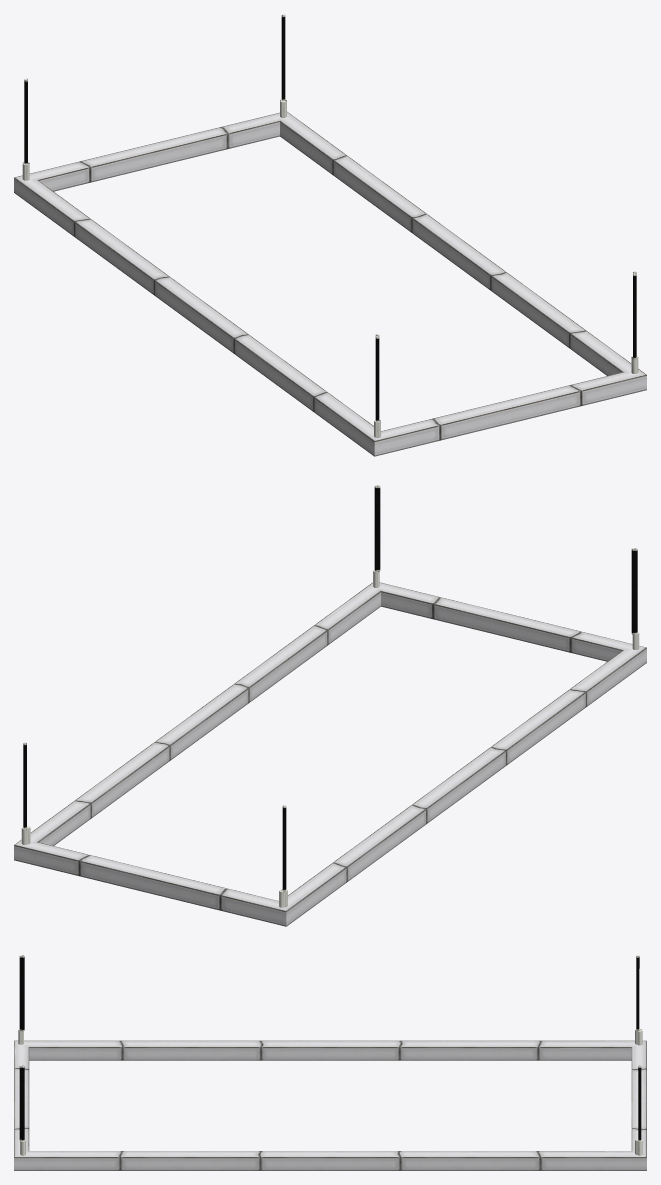
File: STA20_loweredceiling01.FBX
3 views of the same model, one above another, from view 1: azimuth 30°, elevation 25°; view 2: azimuth 150°, elevation 25°; view 3: azimuth 270°, elevation 25° (orthographic). The views are drawn at different scales.
Visible parts, largest first — view 1: STA20_loweredceiling01; view 2: STA20_loweredceiling01; view 3: STA20_loweredceiling01.
Boxes of the visible parts, x1,y1,x2,y2 form: STA20_loweredceiling01: (14, 14, 646, 456); STA20_loweredceiling01: (14, 485, 646, 926); STA20_loweredceiling01: (14, 955, 646, 1170).
Bounding box in the file's own units: 7.88 × 3.21 × 18.06.
